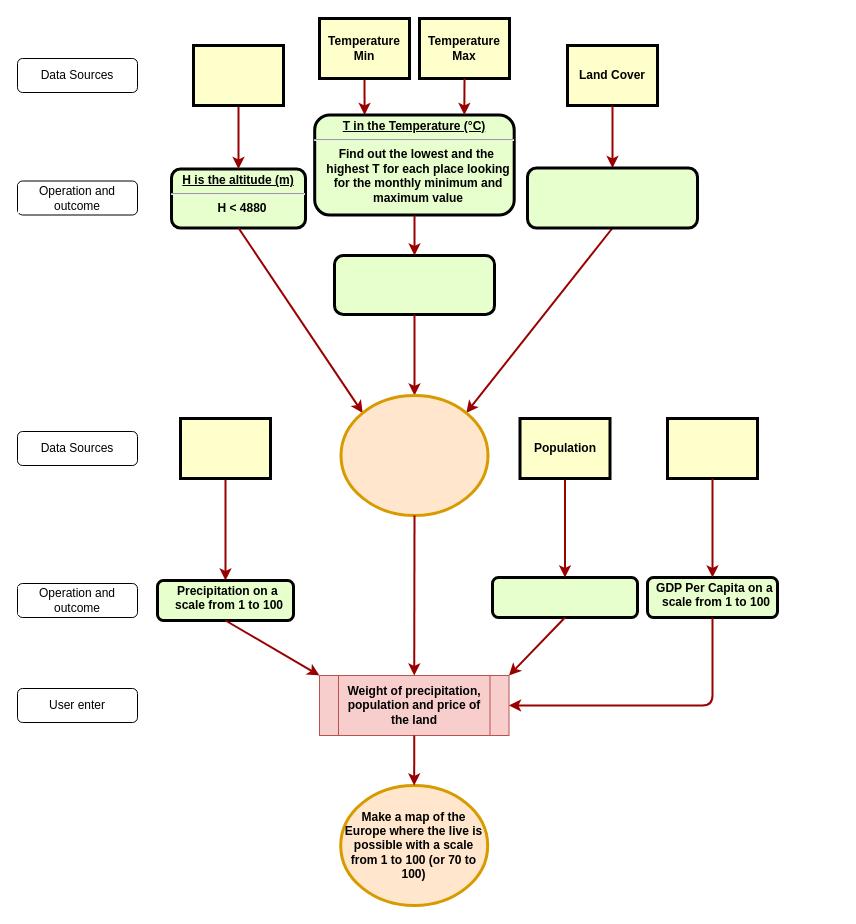
The diagram is 856 pixels wide and 924 high, and some of its shapes have lost their labels. Here are the shapes that lost their labels. From the top down, the centre of each, then its label:
the point at 238,75: Altitude
the point at 612,197: Anywhere there is grass for the alpacas to eat
the point at 414,285: T in the Temperature (°C) -15 < T < 30
the point at 225,448: Precipitation
the point at 414,455: Make a map of the Europe where the live is possible for the Alpacas
the point at 712,448: GDP Per Capita
the point at 564,597: Inhabitant per km2 on a scale from 1 to 100
